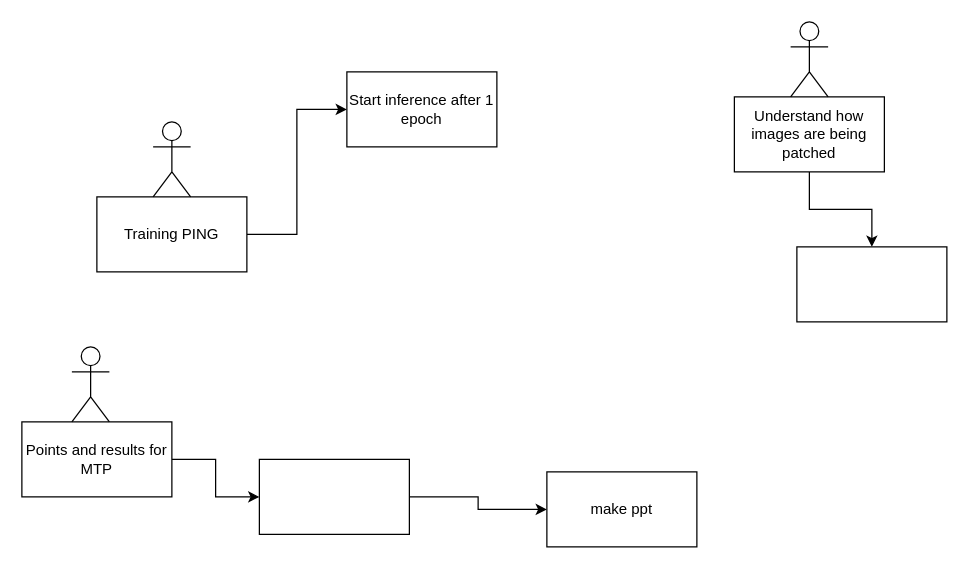
Image size: 969x569. Some labels were removed from this diagram. Each missing label, with the centre of its shape:
"Come up with a definitive ppt for friday" belongs at point (871, 284).
"convert BTP to MTP format" belongs at point (333, 496).
